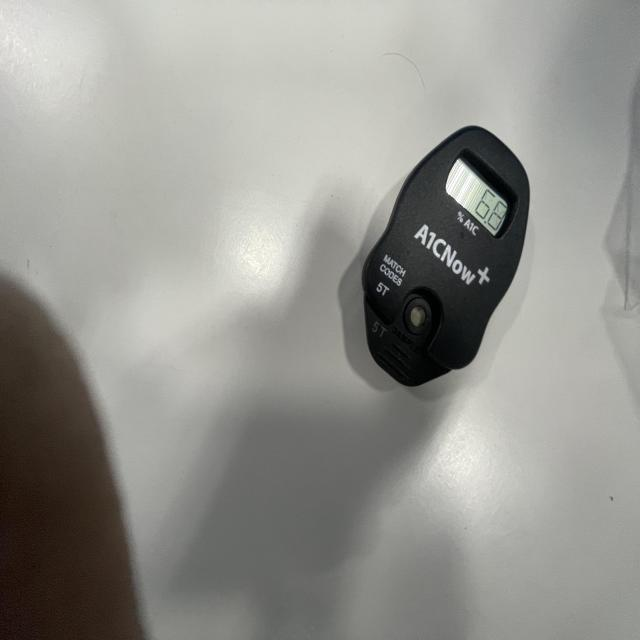hba1c: (358, 126, 532, 391)
